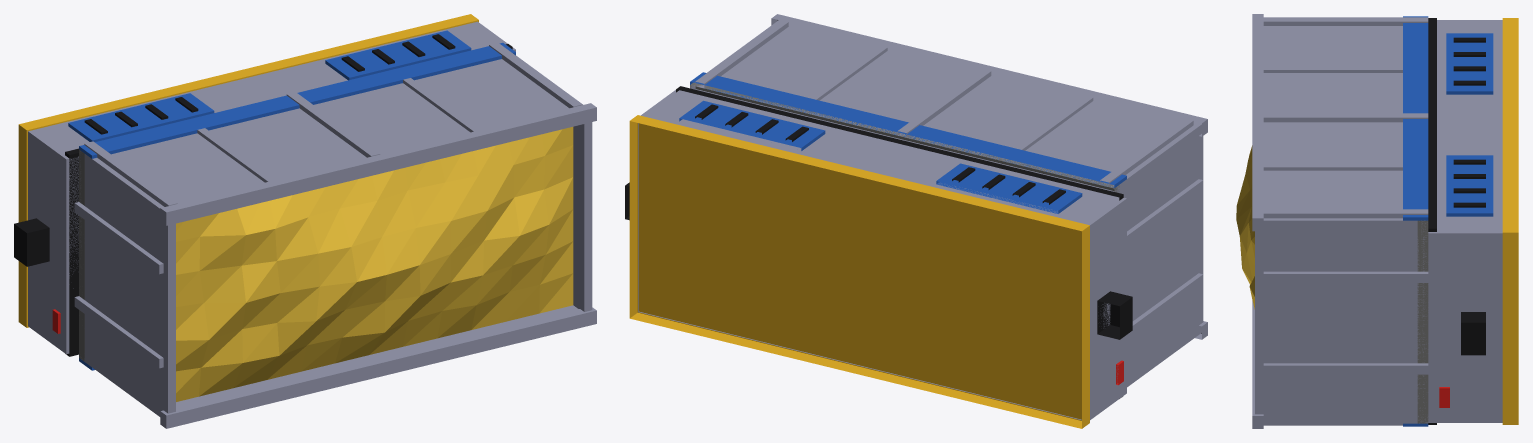
The model's file is loaded.glb.
3 renders of one model, left to right at view 1: azimuth 30°, elevation 25°; view 2: azimuth 150°, elevation 25°; view 3: azimuth 270°, elevation 25°, orthographic. The views are drawn at different scales.
Visible parts, largest first — view 1: loaded_load, loaded_body, loaded_base, loaded_side1_-3.30_2.00, loaded_stripe, loaded_pod11, loaded_pod10, loaded_base_lip, loaded_coupler-1, loaded_side1_-1.66_2.35, loaded_side1_1.54_2.35; view 2: loaded_stripe, loaded_body, loaded_base, loaded_side1_-3.30_2.00, loaded_pod10, loaded_pod11, loaded_base_lip, loaded_coupler-1, loaded_side1_-1.66_2.35, loaded_side1_1.54_2.35; view 3: loaded_body, loaded_base, loaded_stripe, loaded_side1_-3.30_2.00, loaded_pod10, loaded_pod11, loaded_base_lip, loaded_load, loaded_side1_1.54_2.35, loaded_coupler1, loaded_side1_-1.66_2.35.
Part boxes in pixels (bbox=[...]): loaded_load: bbox=[176, 127, 573, 401]; loaded_body: bbox=[74, 42, 596, 428]; loaded_base: bbox=[28, 21, 515, 354]; loaded_side1_-3.30_2.00: bbox=[79, 42, 515, 158]; loaded_stripe: bbox=[18, 14, 478, 327]; loaded_pod11: bbox=[325, 30, 471, 80]; loaded_pod10: bbox=[68, 93, 214, 142]; loaded_base_lip: bbox=[65, 44, 512, 356]; loaded_coupler-1: bbox=[14, 218, 49, 266]; loaded_side1_-1.66_2.35: bbox=[197, 128, 275, 182]; loaded_side1_1.54_2.35: bbox=[403, 78, 481, 132]; loaded_stripe: bbox=[629, 115, 1089, 428]; loaded_body: bbox=[690, 14, 1207, 387]; loaded_base: bbox=[638, 90, 1126, 420]; loaded_side1_-3.30_2.00: bbox=[690, 72, 1126, 187]; loaded_pod10: bbox=[936, 163, 1082, 213]; loaded_pod11: bbox=[679, 100, 825, 150]; loaded_base_lip: bbox=[676, 86, 1123, 397]; loaded_coupler-1: bbox=[1097, 291, 1132, 339]; loaded_side1_-1.66_2.35: bbox=[1014, 95, 1093, 150]; loaded_side1_1.54_2.35: bbox=[809, 45, 887, 100]; loaded_body: bbox=[1252, 14, 1428, 428]; loaded_base: bbox=[1428, 20, 1502, 422]; loaded_stripe: bbox=[1502, 18, 1518, 424]; loaded_side1_-3.30_2.00: bbox=[1403, 16, 1428, 220]; loaded_pod10: bbox=[1446, 33, 1493, 94]; loaded_pod11: bbox=[1446, 155, 1493, 216]; loaded_base_lip: bbox=[1428, 18, 1436, 424]; loaded_load: bbox=[1236, 145, 1254, 309]; loaded_side1_1.54_2.35: bbox=[1263, 163, 1402, 170]; loaded_coupler1: bbox=[1461, 312, 1485, 355]; loaded_side1_-1.66_2.35: bbox=[1263, 66, 1402, 72].
Size of the model in its own units: 7.7 by 3.24 by 3.91.
